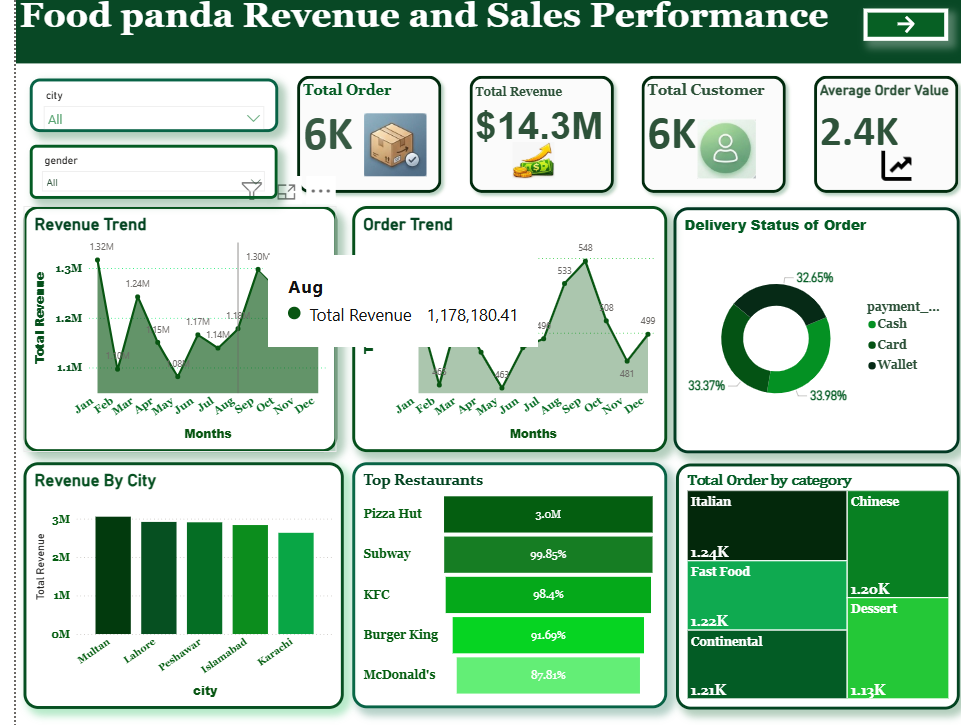

Layout of this report page (visuals, bound fields, positions):
{"tool":"powerbi","page":{"name":"Revenue & sale performance","canvas":[1300,1000],"ordinal":1},"visuals":[{"type":"textbox","box":[0,0,1292.5,98.5],"z":0},{"type":"slicer","fields":{"Values":["Foodpanda Analysis Dataset.city"]},"box":[18.6,118.6,337.3,72.9],"z":1000},{"type":"cardVisual","fields":{"Data":["Foodpanda Analysis Dataset.Total Order","Foodpanda Analysis Dataset.Total Revenue","Foodpanda Analysis Dataset.Total Customer","Foodpanda Analysis Dataset.average order value"]},"box":[365.2,98.5,934.1,193.6],"z":2000},{"type":"donutChart","title":"Delivery Status of Order ","fields":{"Y":["Foodpanda Analysis Dataset.Total Order"],"Category":["Foodpanda Analysis Dataset.payment_method"]},"box":[893.3,293.8,388.9,334.6],"z":3000},{"type":"treemap","fields":{"Group":["Foodpanda Analysis Dataset.category"],"Values":["Foodpanda Analysis Dataset.Total Order"]},"box":[896.7,642,385.5,334.6],"z":4000},{"type":"funnel","title":"Top Restaurants","fields":{"Category":["Foodpanda Analysis Dataset.restaurant_name"],"Y":["Foodpanda Analysis Dataset.Total Revenue"]},"box":[456.9,640.3,428,334.6],"z":5000},{"type":"actionButton","box":[1150.8,23.7,115.3,44.1],"z":6000},{"type":"lineChart","title":" Order Trend","fields":{"Y":["Foodpanda Analysis Dataset.Total Order"],"Category":["Date Table.Months"]},"box":[456.9,292.1,428,334.6],"z":7000},{"type":"lineChart","title":"Revenue Trend","fields":{"Category":["Date Table.Months"],"Y":["Foodpanda Analysis Dataset.Total Revenue"]},"box":[10.2,292.1,426.3,334.6],"z":8000},{"type":"slicer","fields":{"Values":["Foodpanda Analysis Dataset.gender"]},"box":[18.8,208.2,336.6,73.6],"z":9000},{"type":"image","box":[625,200.4,156.3,59.4],"z":10000},{"type":"image","box":[918.8,169.8,93.4,90],"z":11000},{"type":"image","box":[458.6,161.3,113.8,95.1],"z":12000},{"type":"clusteredColumnChart","title":"Revenue By City","fields":{"Category":["Foodpanda Analysis Dataset.city"],"Y":["Foodpanda Analysis Dataset.Total Revenue"]},"box":[10.2,640.7,435.6,335.6],"z":13000},{"type":"image","box":[1115.3,211.9,160,50.8],"z":14000}]}

Visuals, with their boxes in screenshot pixels (x1, y1, x2, y2), scaled from the page's 1300x1000 canvas onto the 961x725 screenshot:
textbox: rect(0, 0, 955, 71)
slicer - Foodpanda Analysis Dataset.city: rect(14, 86, 263, 139)
cardVisual - Foodpanda Analysis Dataset.Total Order x Foodpanda Analysis Dataset.Total Revenue: rect(270, 71, 960, 212)
"Delivery Status of Order " donutChart: rect(660, 213, 948, 456)
treemap - Foodpanda Analysis Dataset.category x Foodpanda Analysis Dataset.Total Order: rect(663, 465, 948, 708)
"Top Restaurants" funnel: rect(338, 464, 654, 707)
actionButton: rect(851, 17, 936, 49)
" Order Trend" lineChart: rect(338, 212, 654, 454)
"Revenue Trend" lineChart: rect(8, 212, 323, 454)
slicer - Foodpanda Analysis Dataset.gender: rect(14, 151, 263, 204)
image: rect(462, 145, 578, 188)
image: rect(679, 123, 748, 188)
image: rect(339, 117, 423, 186)
"Revenue By City" clusteredColumnChart: rect(8, 465, 330, 708)
image: rect(824, 154, 943, 190)
